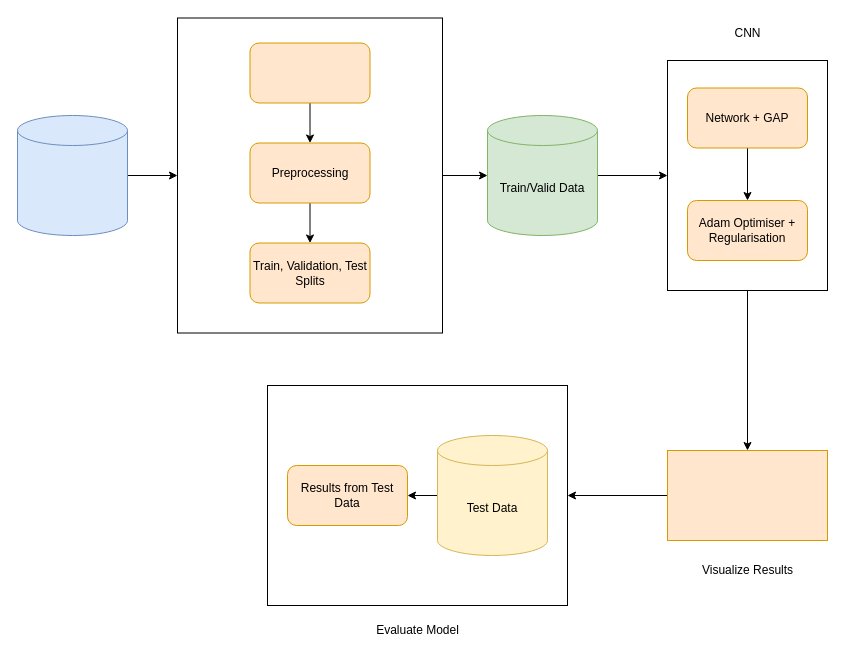
This 845x662 diagram has some shape labels left out. Here are the shapes that lost their labels. From the top down, the centre of each, then its label:
the point at 309,72: Mean and Standard Deviation Calculations
the point at 72,175: Dataset
the point at 747,495: Accuracy + Loss (Cross Entropy Loss)
